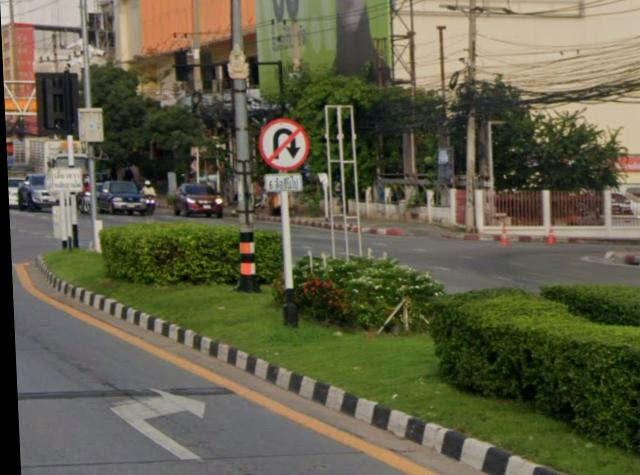not_u_turn_right: (256, 118, 308, 170)
